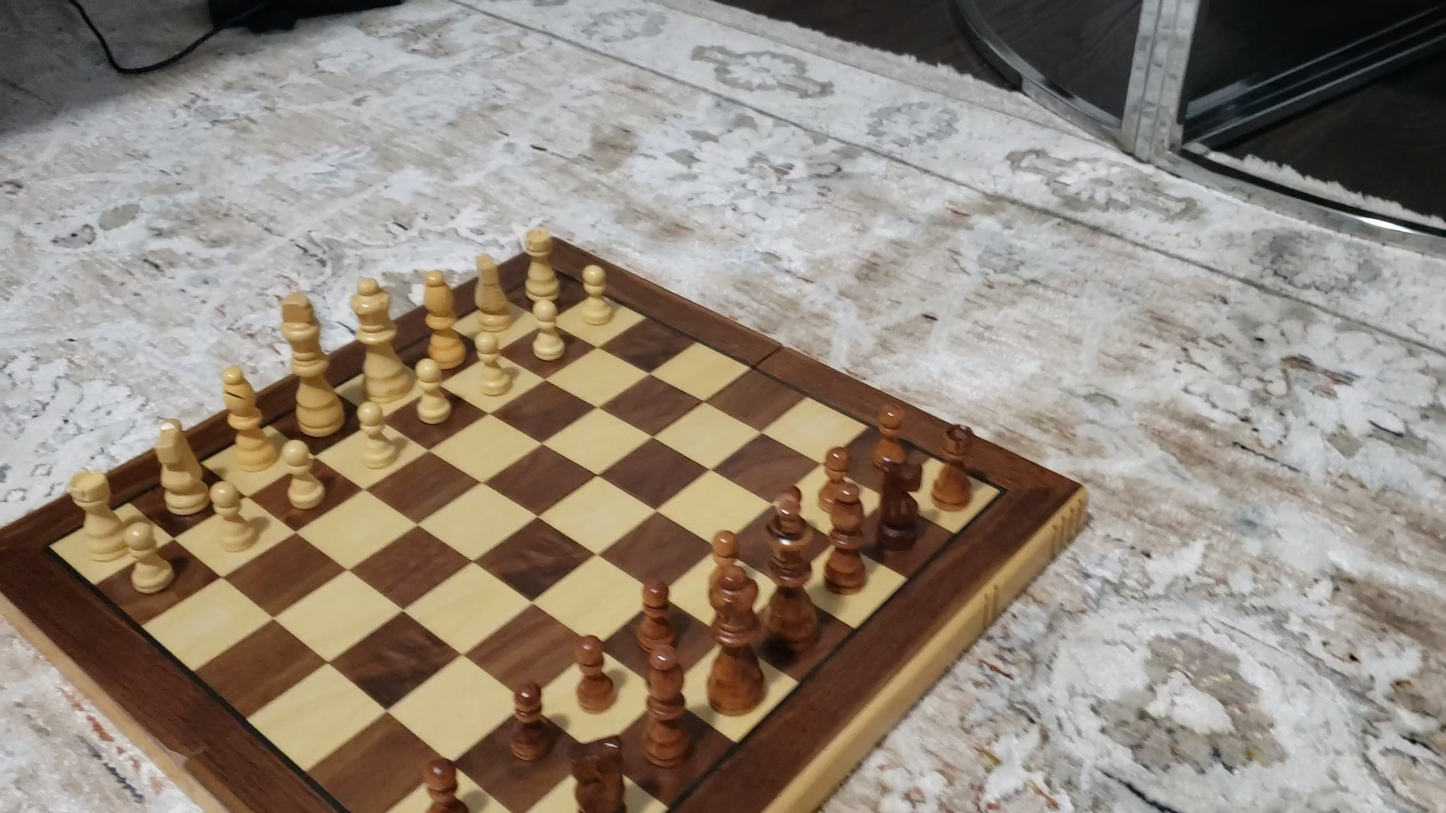black-bishop: (642, 646, 692, 767), (819, 477, 868, 594)
black-king: (757, 493, 824, 657)
black-knight: (874, 452, 926, 554), (565, 733, 629, 810)
black-pawn: (633, 574, 681, 660), (506, 678, 554, 763), (570, 632, 616, 715), (418, 751, 470, 811), (869, 401, 909, 478), (702, 508, 746, 575), (817, 440, 855, 512)
black-queen: (700, 562, 772, 719)
black-rook: (931, 420, 974, 512)
white-bishop: (219, 363, 276, 473), (420, 267, 464, 371)
white-king: (277, 289, 344, 439)
white-knight: (152, 417, 208, 516), (469, 251, 512, 336)
white-pawn: (117, 517, 179, 599), (203, 479, 262, 557), (350, 399, 404, 474), (277, 439, 330, 515), (466, 326, 518, 401), (407, 355, 457, 428), (568, 259, 619, 330), (525, 295, 570, 364)
white-queen: (349, 276, 410, 403)
white-rook: (67, 467, 127, 562), (520, 221, 561, 308)
